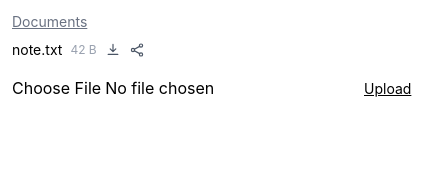
Scenario: FileBrowser › shows an error and no success message when creating a share link fails
What coordinates should you click on to do the following:
click the button named "Share"
I would click on:
 (137, 50)
Its box is left=129, top=42, right=145, bottom=58.
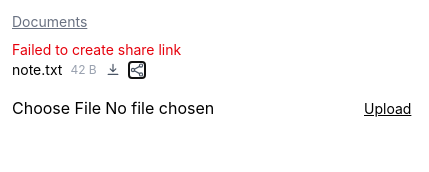
Expected: the text "Failed to create share link" is shown, left=12, top=41, right=181, bottom=58
